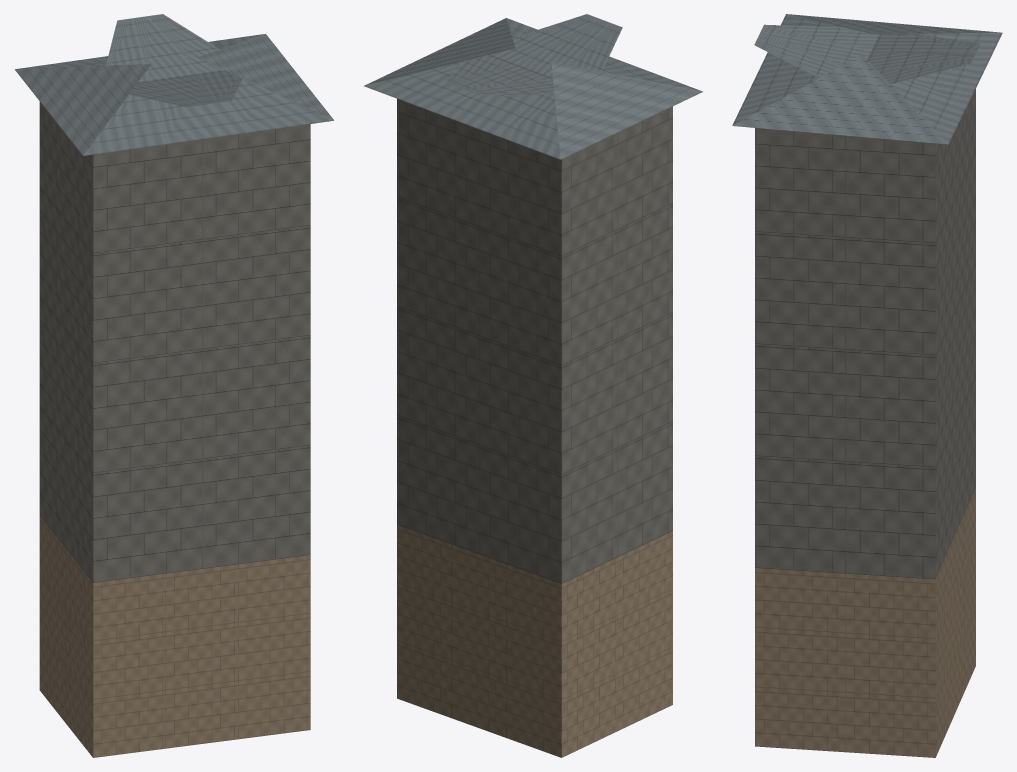
Rendered from bld_c-8_36_392.gltf.
The picture shows the model from 3 angles, left to right: view 1: azimuth 30°, elevation 25°; view 2: azimuth 150°, elevation 25°; view 3: azimuth 270°, elevation 25°; orthographic projection. The views are drawn at different scales.
Visible parts, largest first — view 1: bld_c-8_36_392; view 2: bld_c-8_36_392; view 3: bld_c-8_36_392.
Part boxes in pixels (x1=…): bld_c-8_36_392: x1=15, y1=14, x2=333, y2=757; bld_c-8_36_392: x1=364, y1=14, x2=702, y2=757; bld_c-8_36_392: x1=732, y1=14, x2=1002, y2=757.
Size of the model in its own units: 8 by 18.9 by 7.01.
3 materials, 3 textured.
